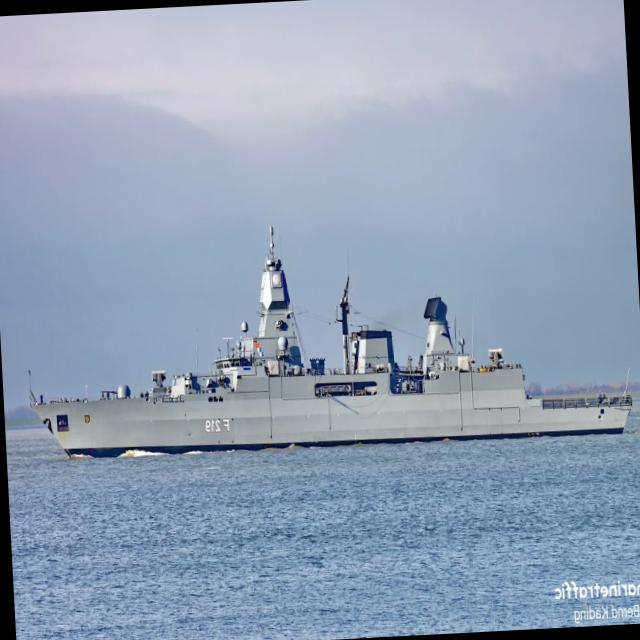Military: (30, 227, 632, 457)
